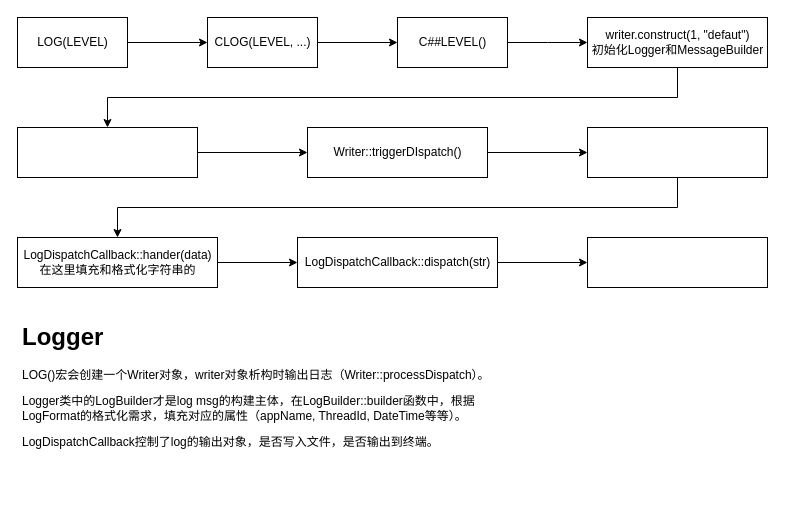
Image size: 785x515. Some labels were removed from this diagram. The box of each missing label's shape, as (x1, y1, x2, y2) in pixels:
LogDispatcher::dispatch(): (586, 126, 768, 178)
write to file write to stdout: (586, 236, 768, 288)
Writer::processDIspatch(): (16, 126, 198, 178)
